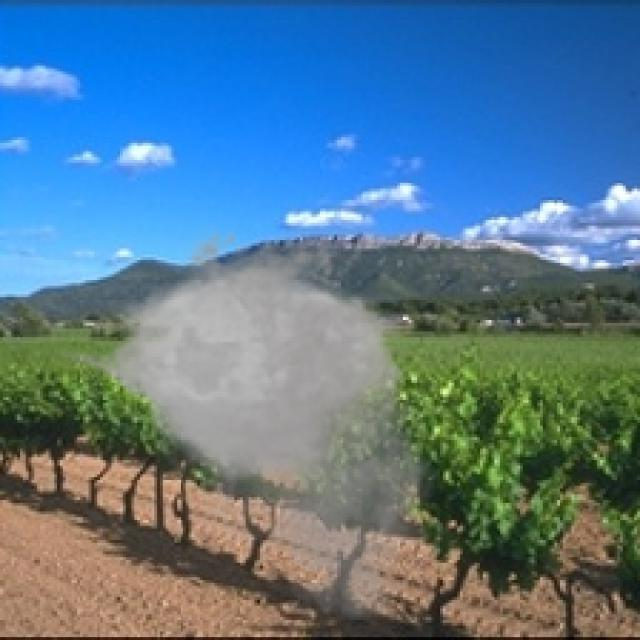Smoke: (54, 217, 446, 626)
